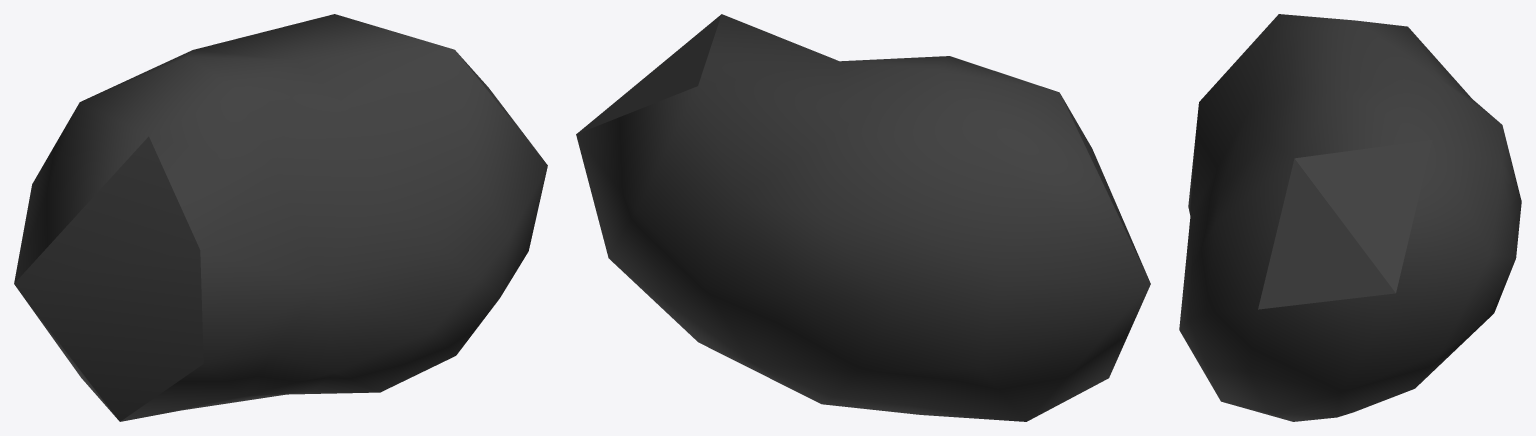
The model's file is rock2light.FBX.
3 views of the same model, side by side, from view 1: azimuth 30°, elevation 25°; view 2: azimuth 150°, elevation 25°; view 3: azimuth 270°, elevation 25° (orthographic). The views are drawn at different scales.
Parts seen in each view (by area): view 1: default; view 2: default; view 3: default.
Boxes of the visible parts, left/top/right/bottom form: default: left=14, top=14, right=547, bottom=421; default: left=576, top=14, right=1150, bottom=421; default: left=1179, top=14, right=1521, bottom=421.
Bounding box in the file's own units: 0.0888 × 0.0551 × 0.0532.
1 material, 1 textured.
